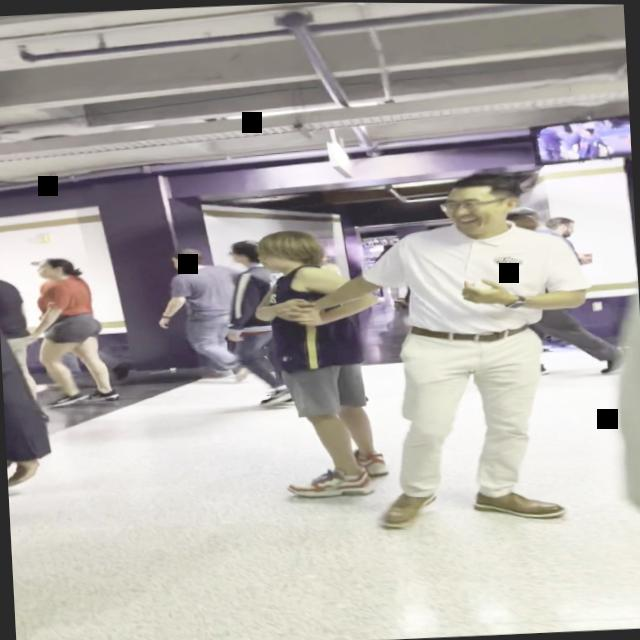NO-Mask: (446, 184, 500, 236), (257, 247, 290, 273), (168, 252, 190, 271), (522, 212, 542, 231), (36, 260, 56, 278), (229, 246, 246, 263), (562, 218, 578, 236)
